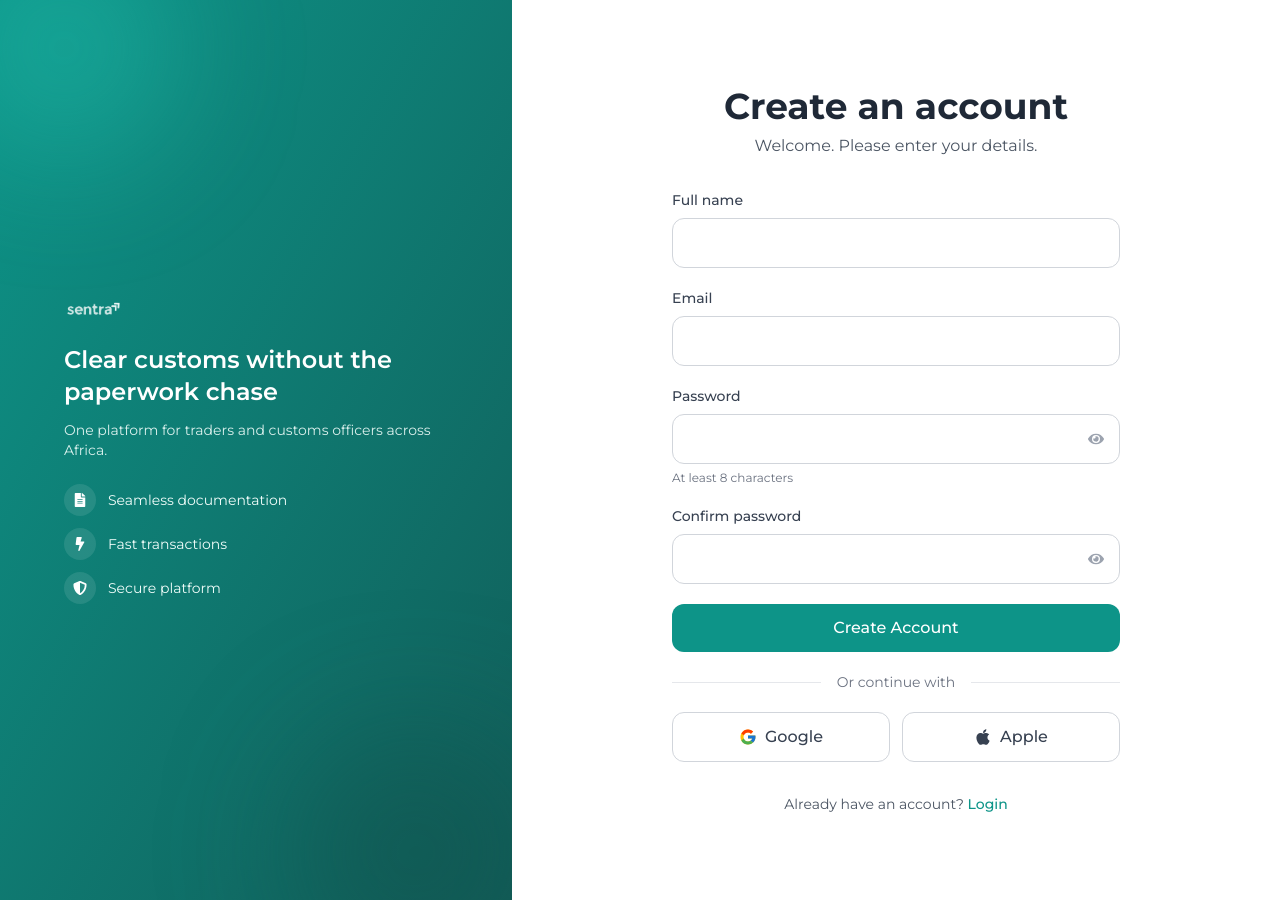
Test: TraderSignup validation › flags an invalid email format
In the field labelled "Full name": x=896, y=243 [672,218,1120,268], type "Jane Doe"
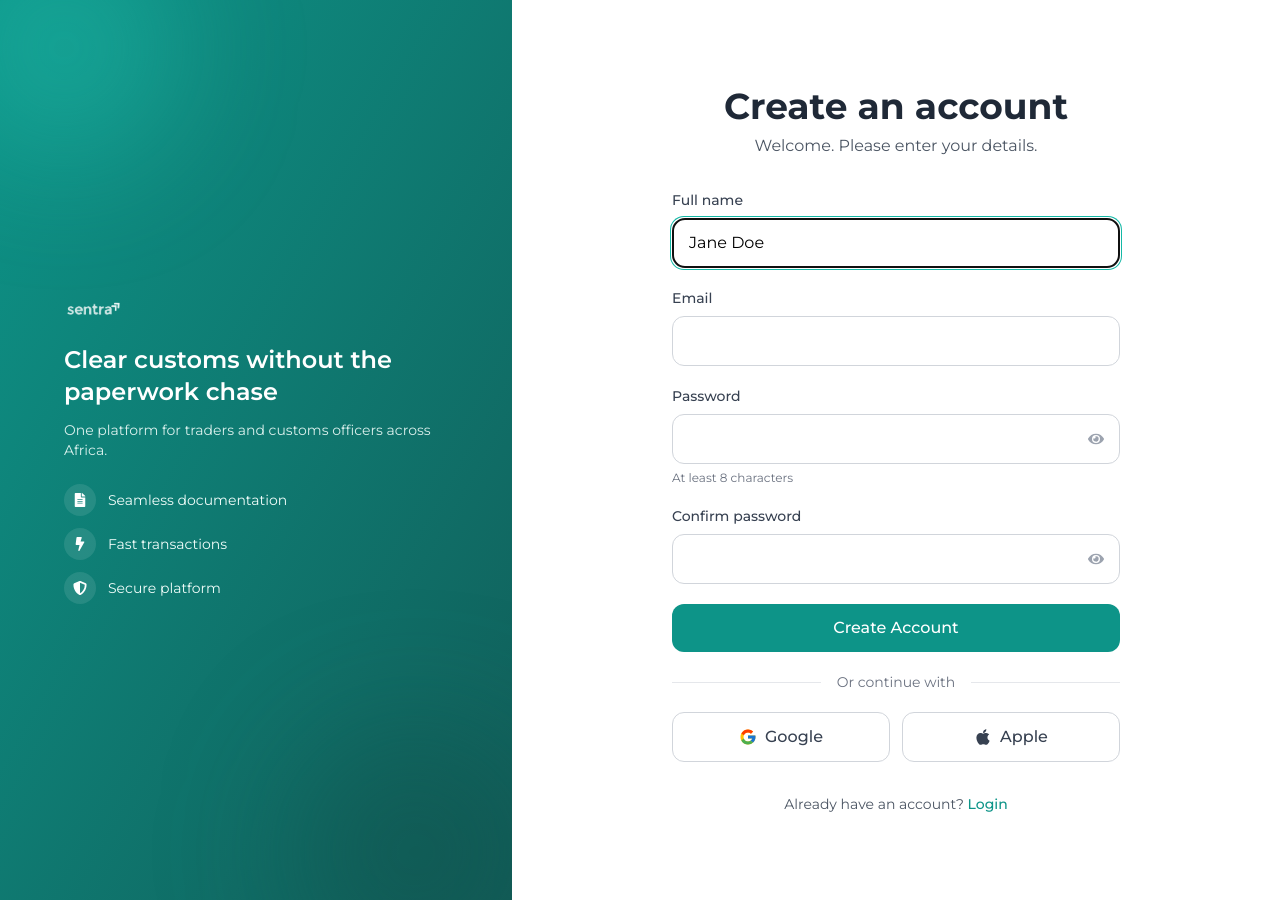
In the field labelled "Email": x=896, y=341 [672,316,1120,366], type "not-an-email"
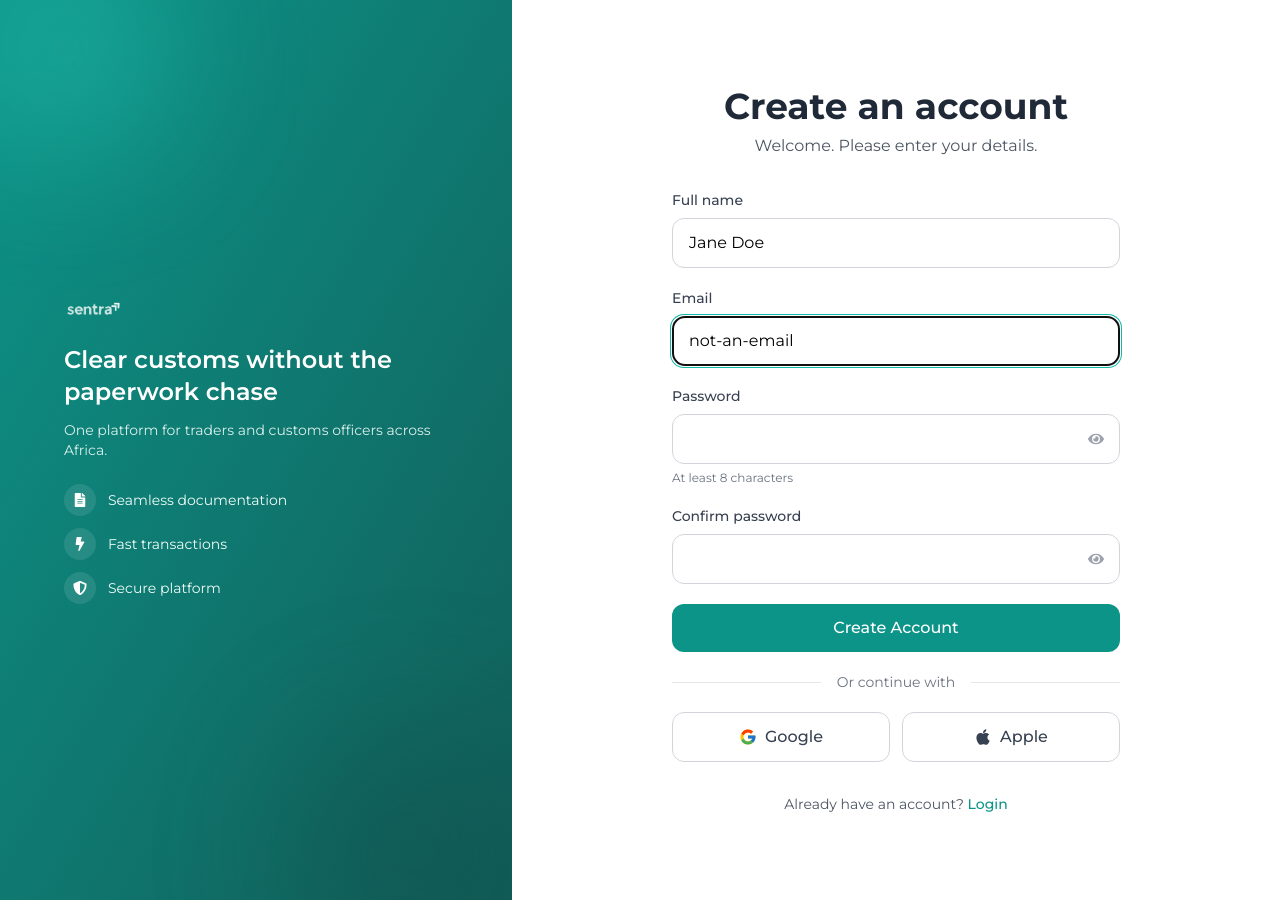
In the password field labelled "Password": x=896, y=439 [672,414,1120,464], type "password123"
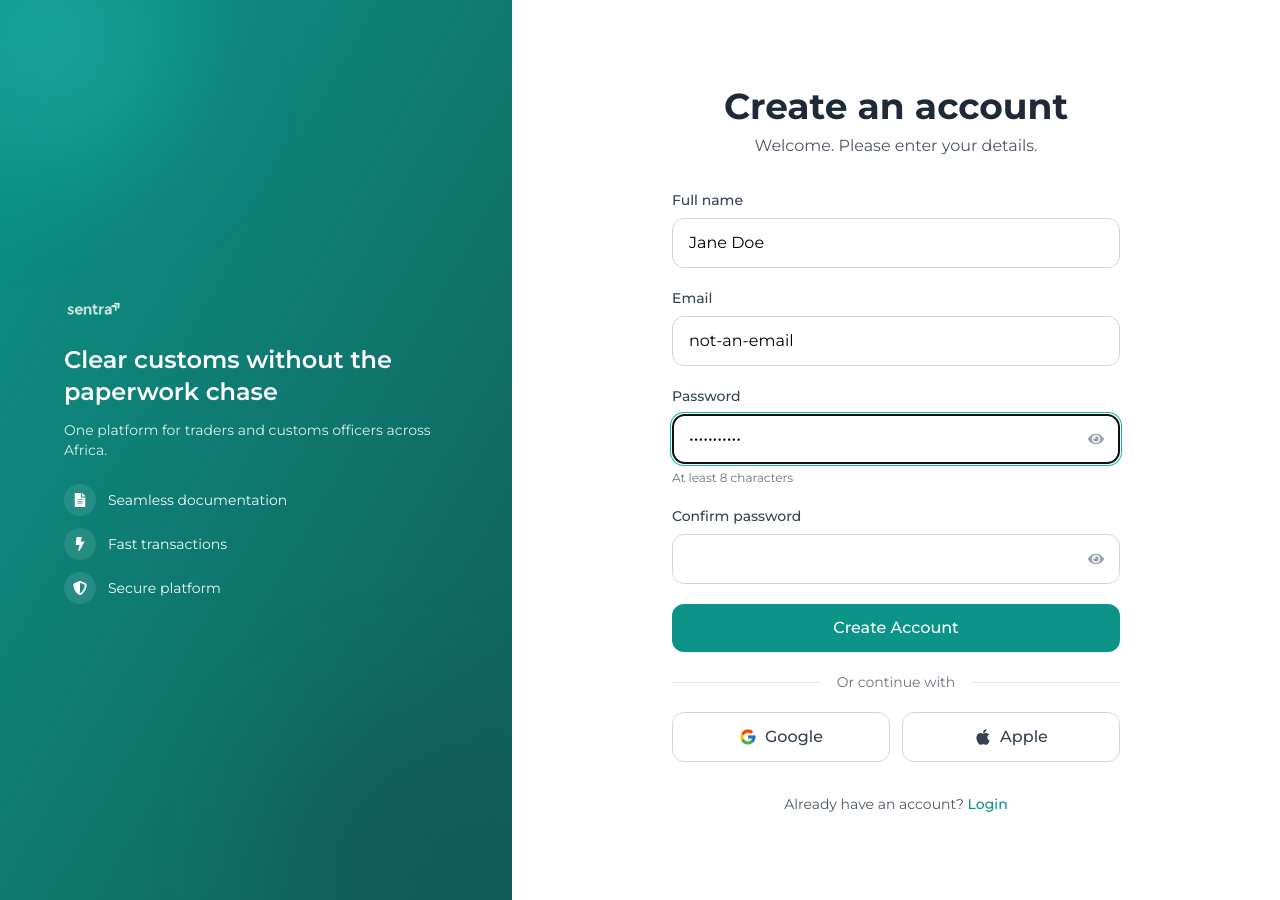
In the password field labelled "Confirm password": x=896, y=559 [672,534,1120,584], type "password123"
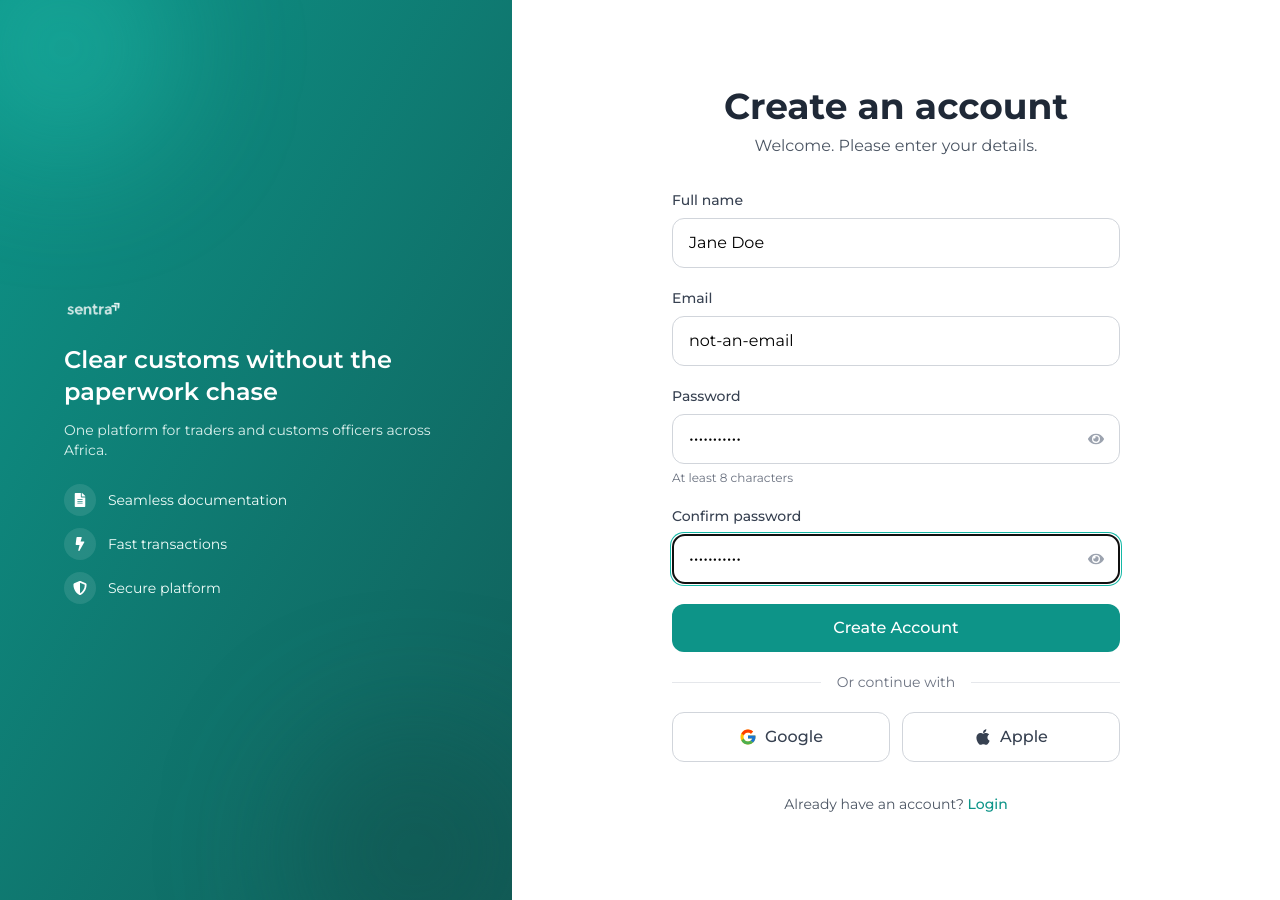
Click the button "Create Account": x=896, y=628 [672,604,1120,652]
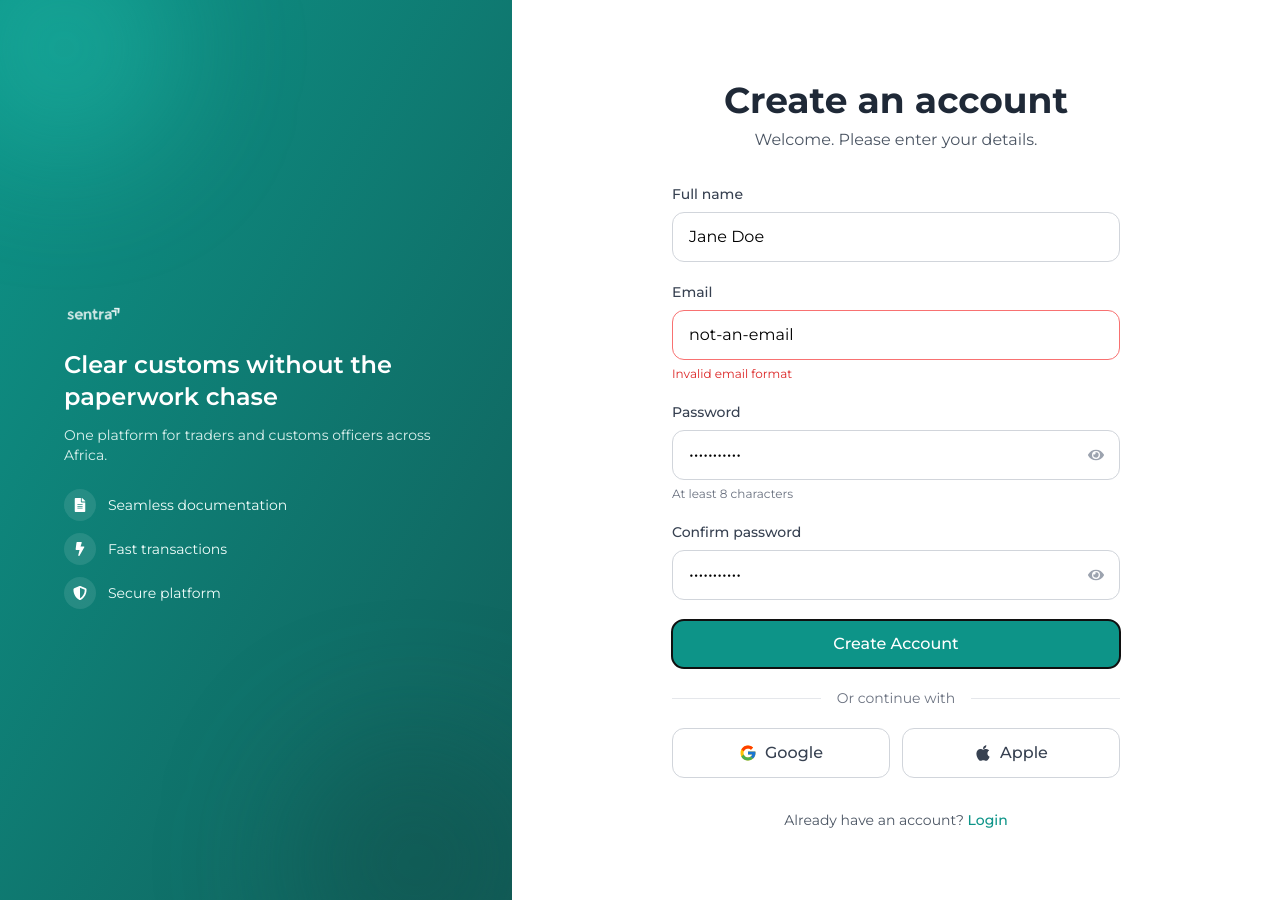
Result: the text "Invalid email format" is shown at [672,366,792,381]
